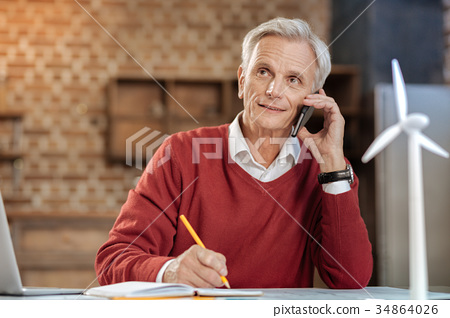phone: (287, 85, 330, 140)
talk: (245, 60, 345, 156)
